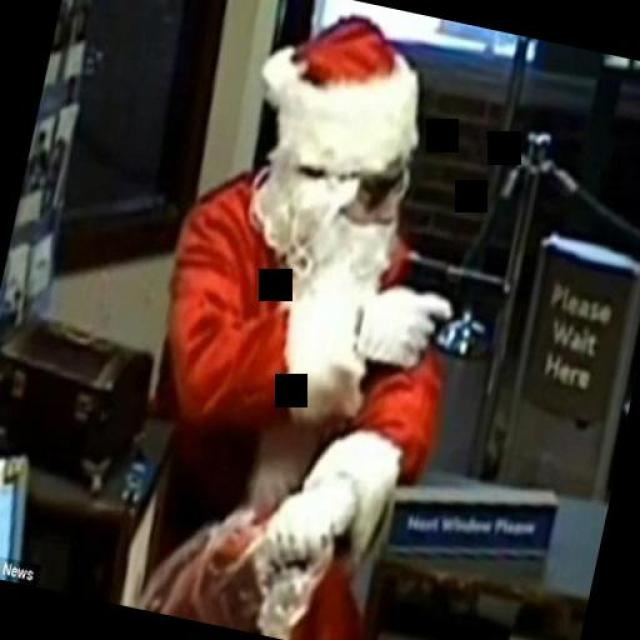gun: (374, 237, 506, 375)
